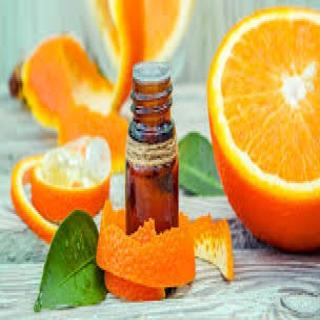orange: (204, 5, 320, 267), (32, 130, 110, 242)
